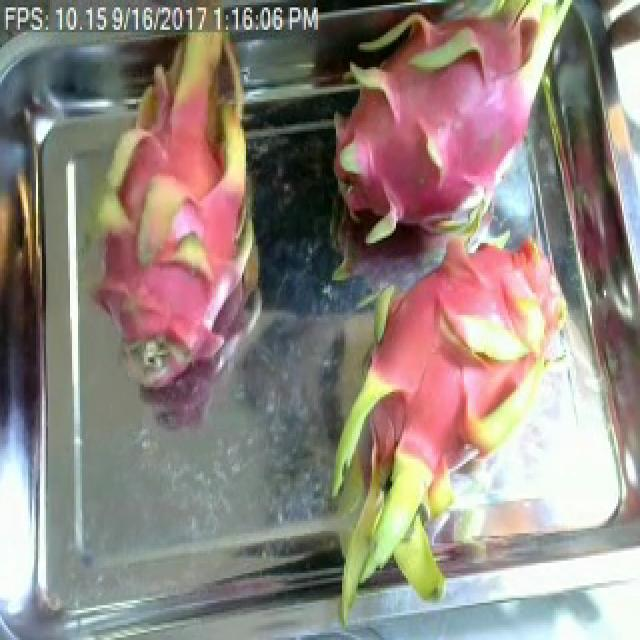Fruit: (134, 10, 246, 213)
